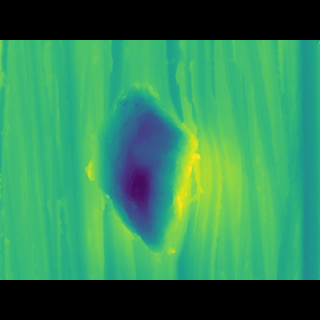Loch: (80, 99, 213, 235)
